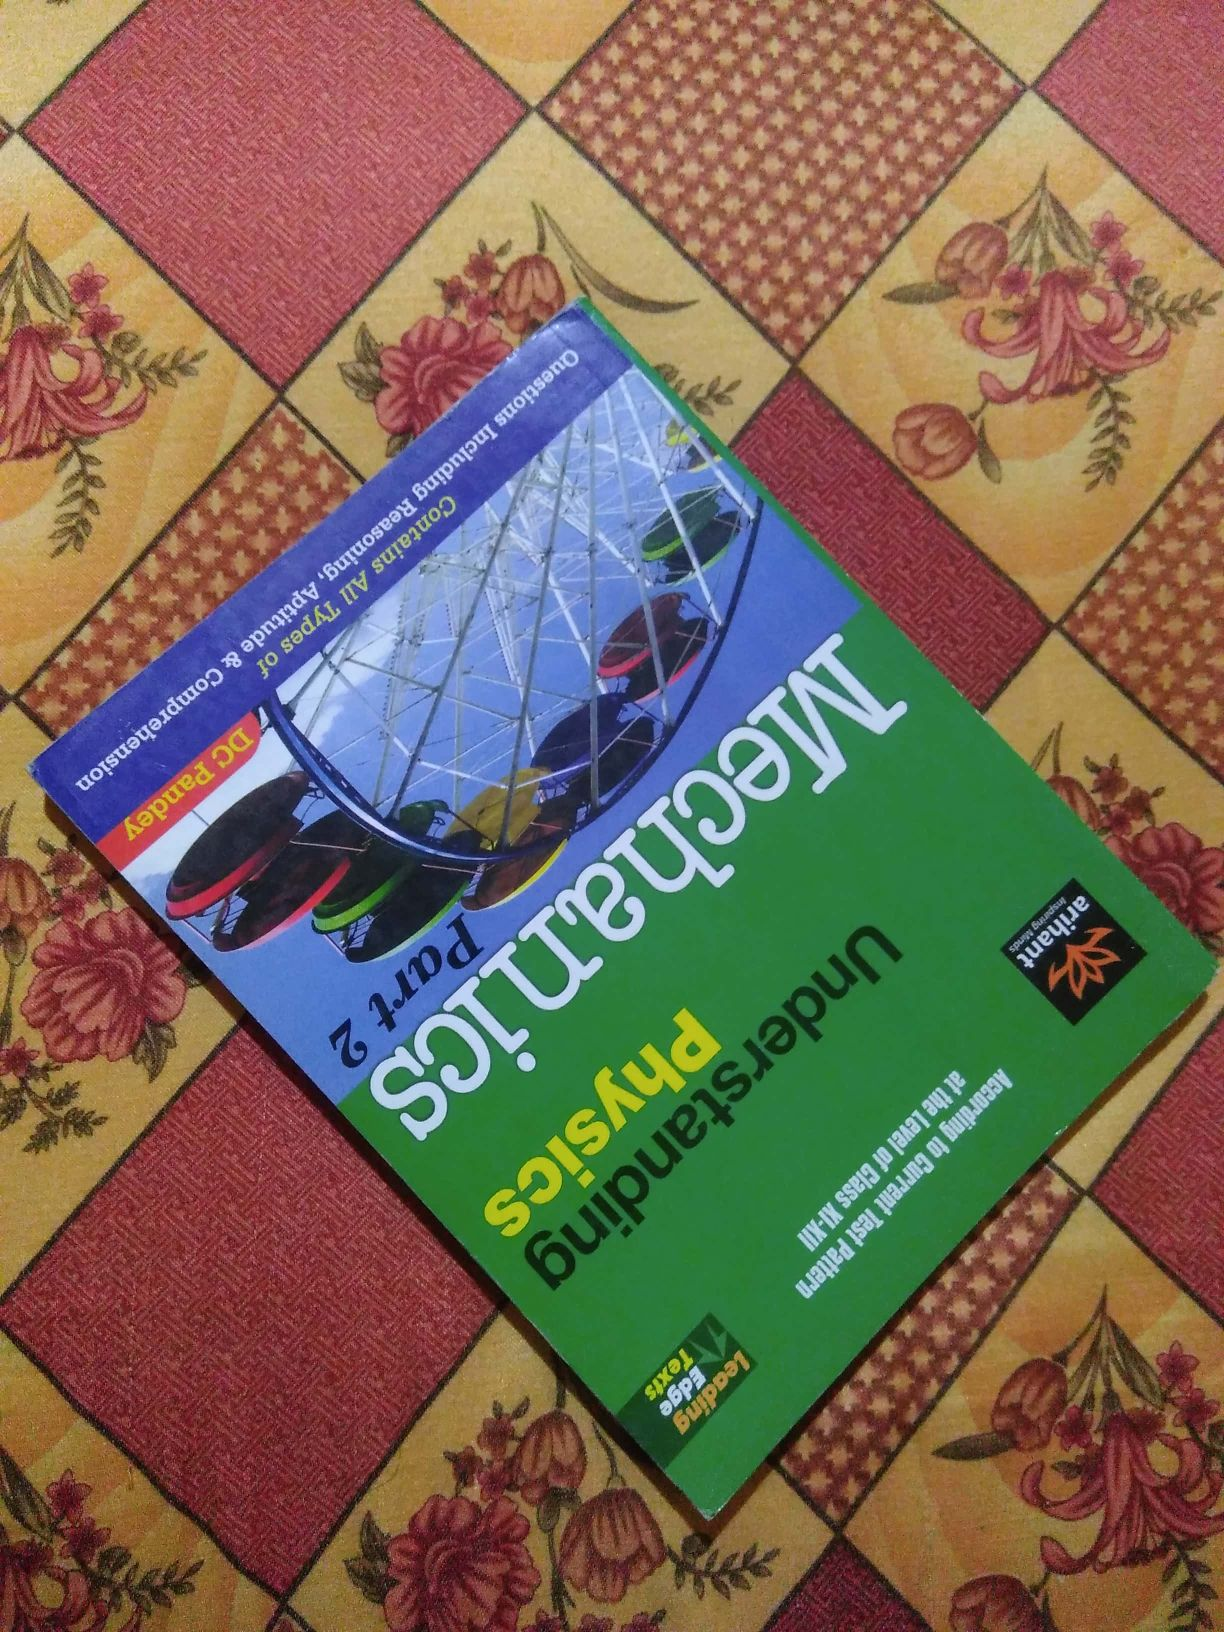mechanics: (95, 319, 1185, 1475)
